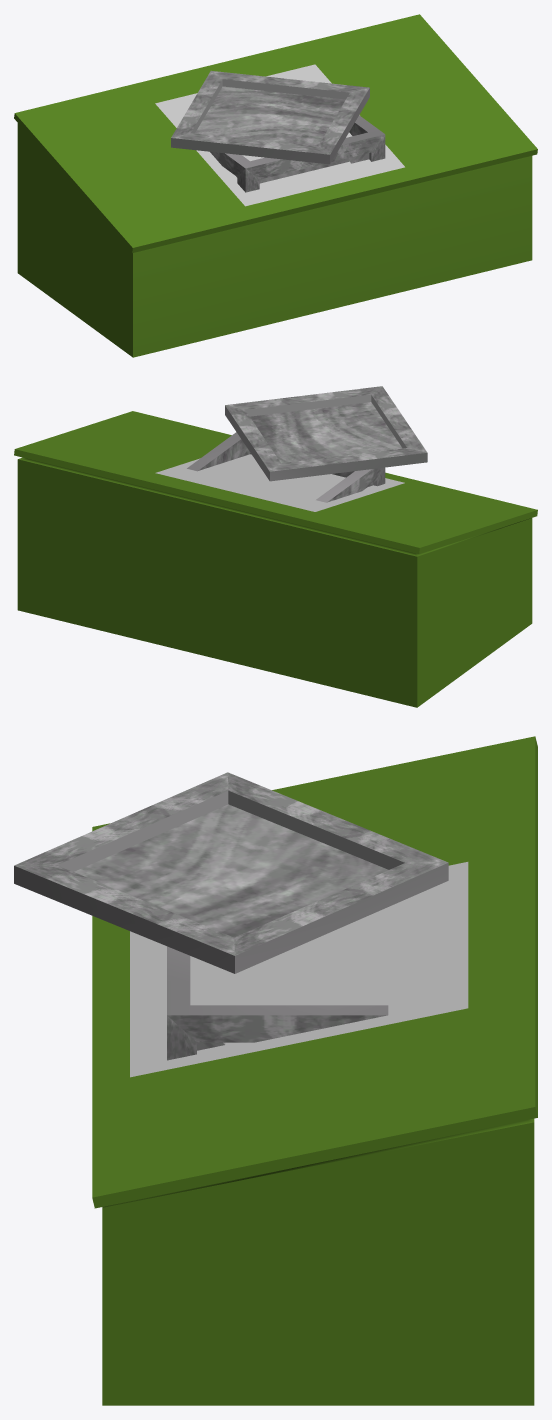
Rendered from Anim.fbx.
3 views of the same model, one above another, from view 1: azimuth 30°, elevation 25°; view 2: azimuth 150°, elevation 25°; view 3: azimuth 270°, elevation 25° (orthographic). The views are drawn at different scales.
Visible parts, largest first — view 1: Lid (×2), Crate (×2), Sign; view 2: Crate (×2), Lid (×2), Sign; view 3: Lid (×2), Crate (×2), Sign.
Boxes of the visible parts, x1,y1,x2,y2 form: Lid (×2): (14, 14, 537, 253); Crate (×2): (17, 115, 532, 357); Sign: (155, 64, 404, 206); Crate (×2): (17, 432, 532, 707); Lid (×2): (14, 386, 537, 554); Sign: (155, 454, 404, 511); Lid (×2): (14, 736, 537, 1208); Crate (×2): (102, 946, 534, 1405); Sign: (130, 862, 468, 1077).
Bounding box in the file's own units: 3.79 × 1.6 × 2.27.
